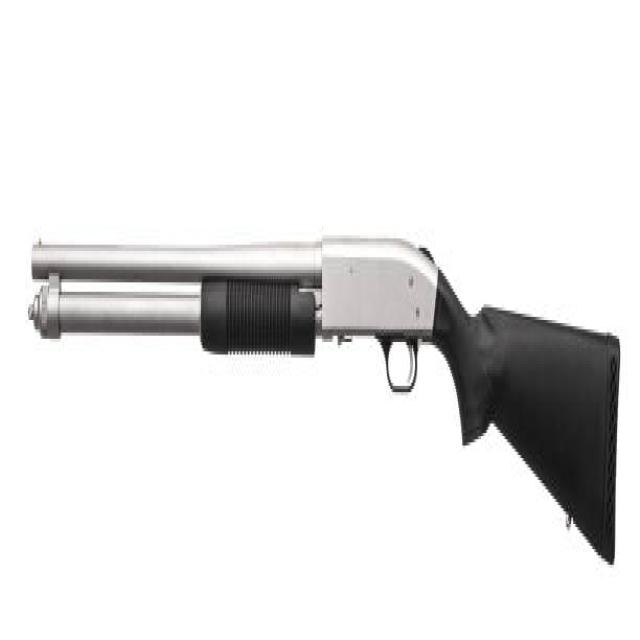rifle: (24, 218, 625, 576)
